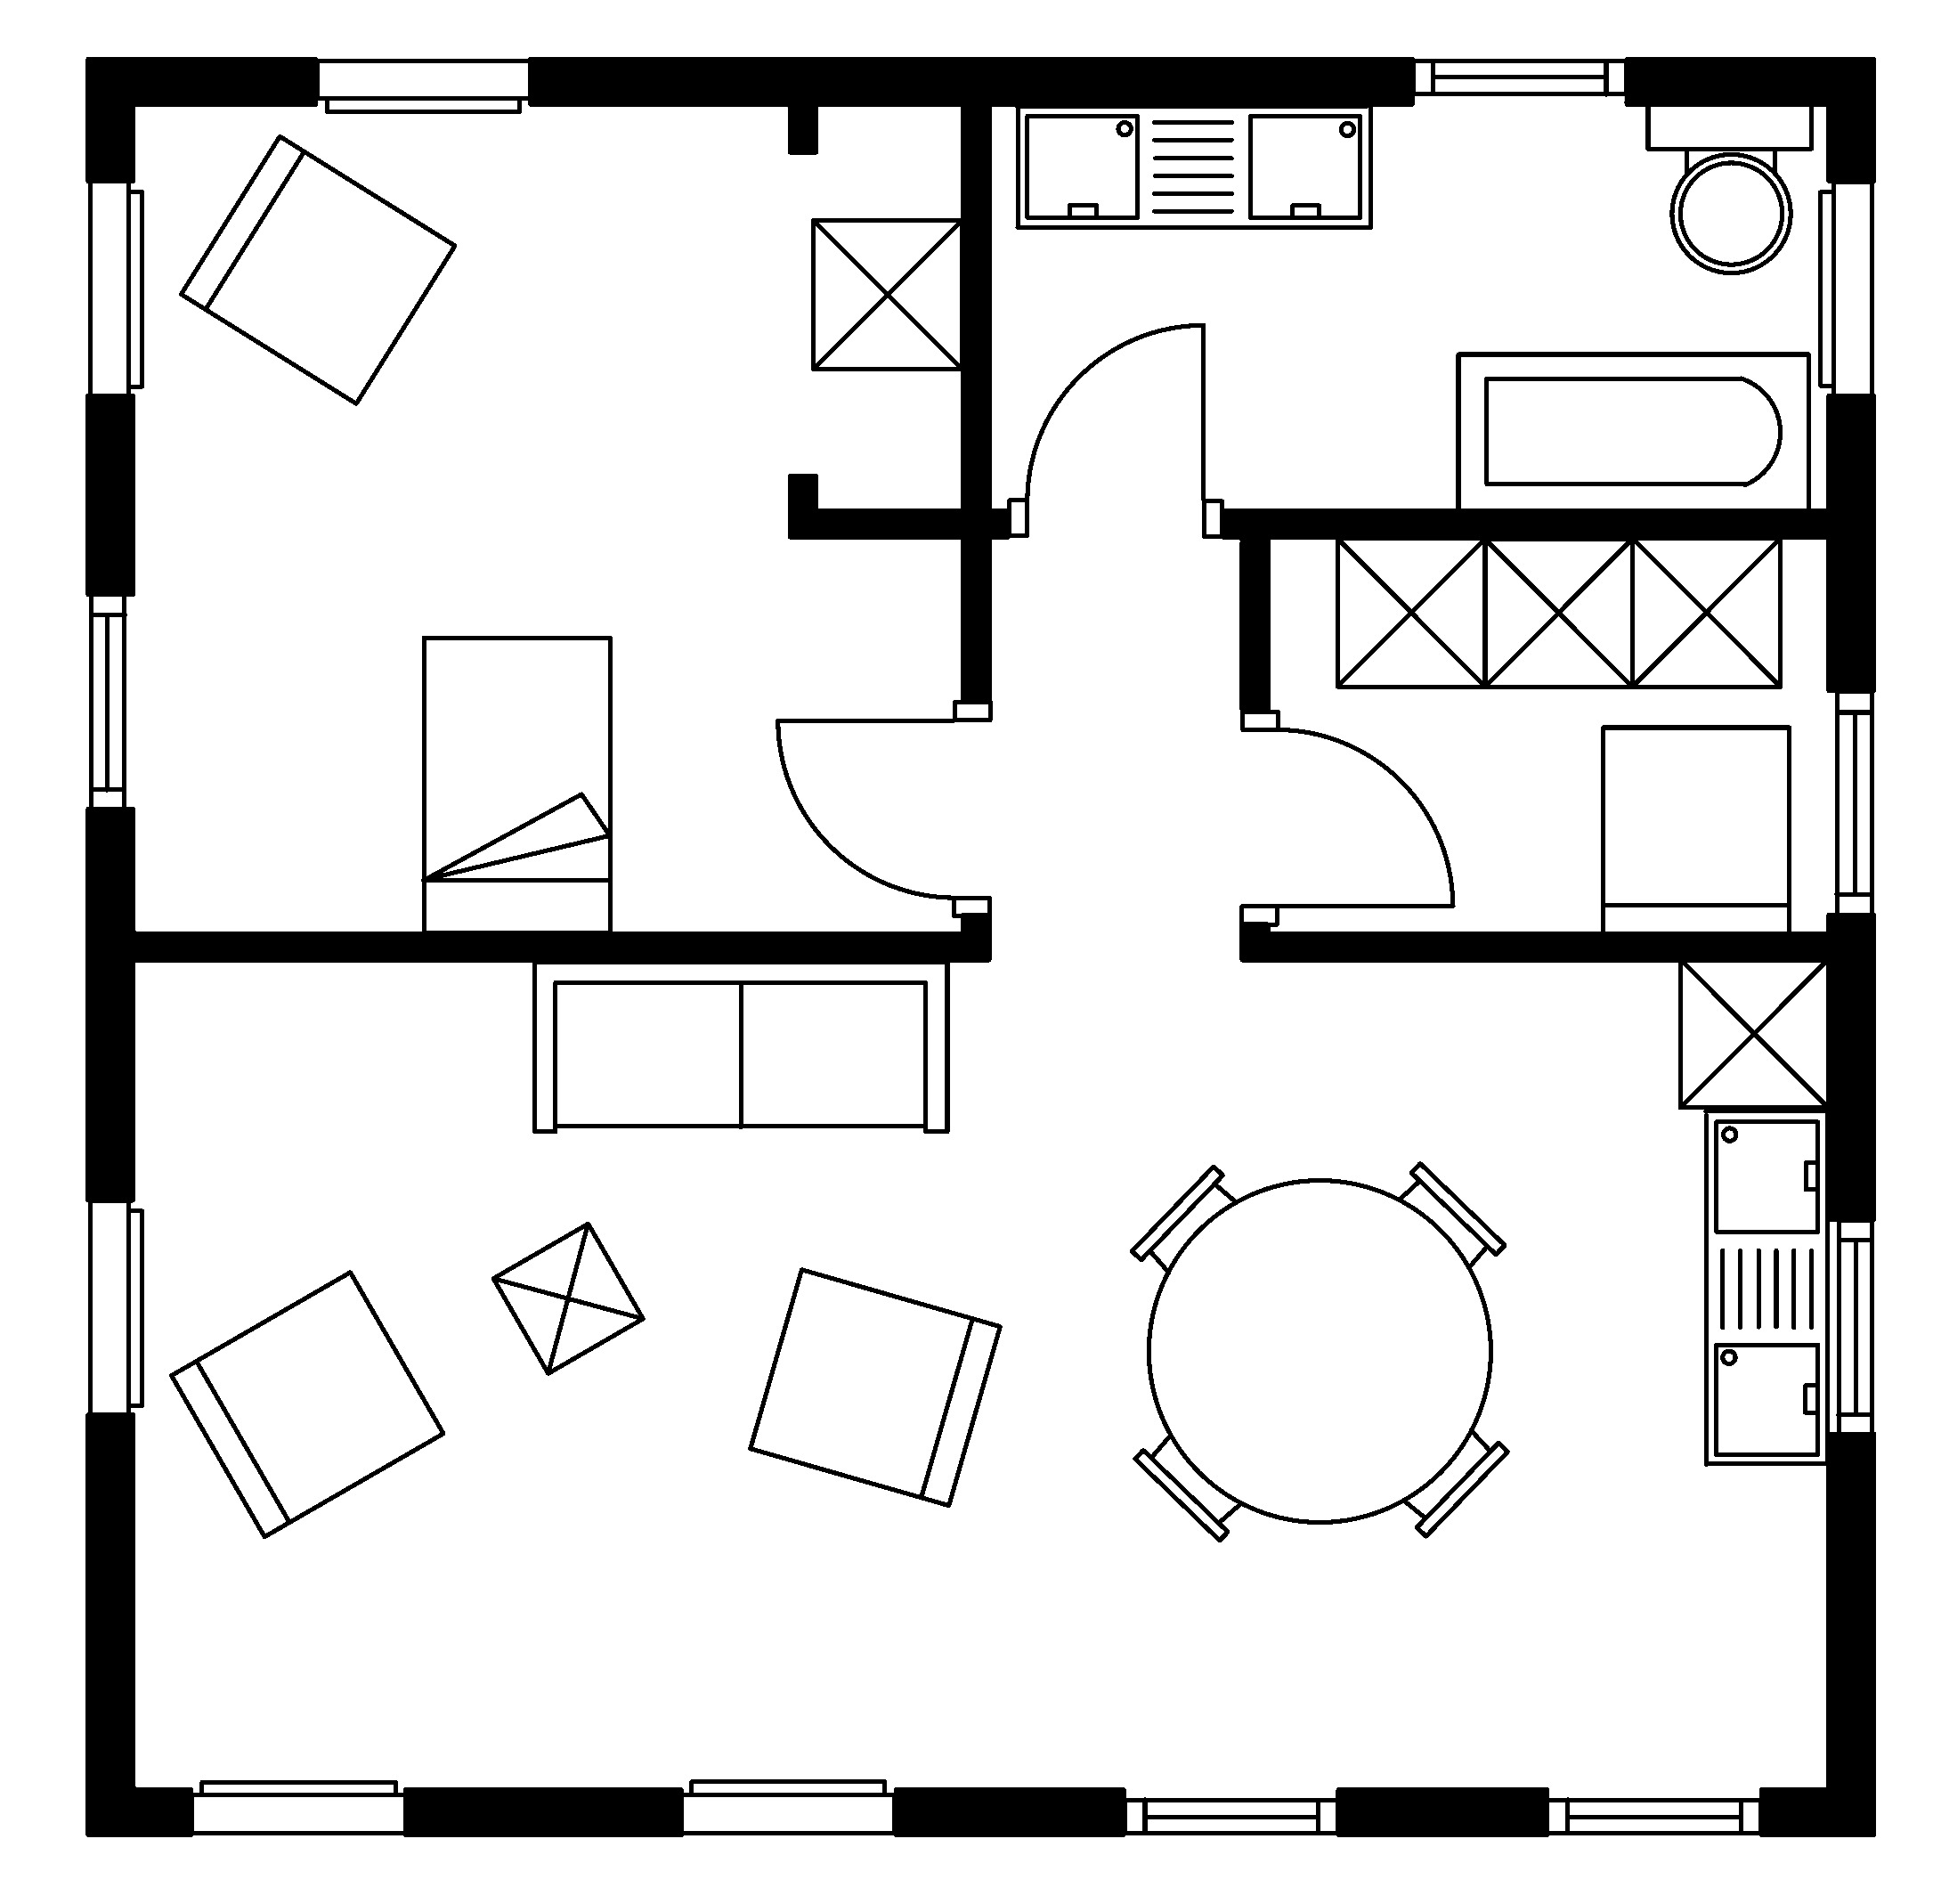basin: (1694, 1107, 1834, 1475), (1011, 105, 1380, 234)
bed: (418, 629, 619, 936)
door: (769, 701, 999, 921), (1011, 316, 1224, 542), (1239, 713, 1462, 926)
roundTable: (1126, 1156, 1513, 1547)
window: (1832, 687, 1877, 919), (1414, 54, 1624, 103), (1122, 1794, 1339, 1841), (1546, 1794, 1764, 1839), (85, 593, 131, 807), (1835, 1219, 1877, 1433)
